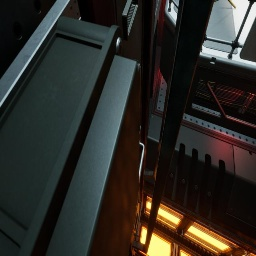EmergencyPhone ,: (134, 60, 140, 132)
